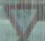Give way: (3, 2, 41, 40)
